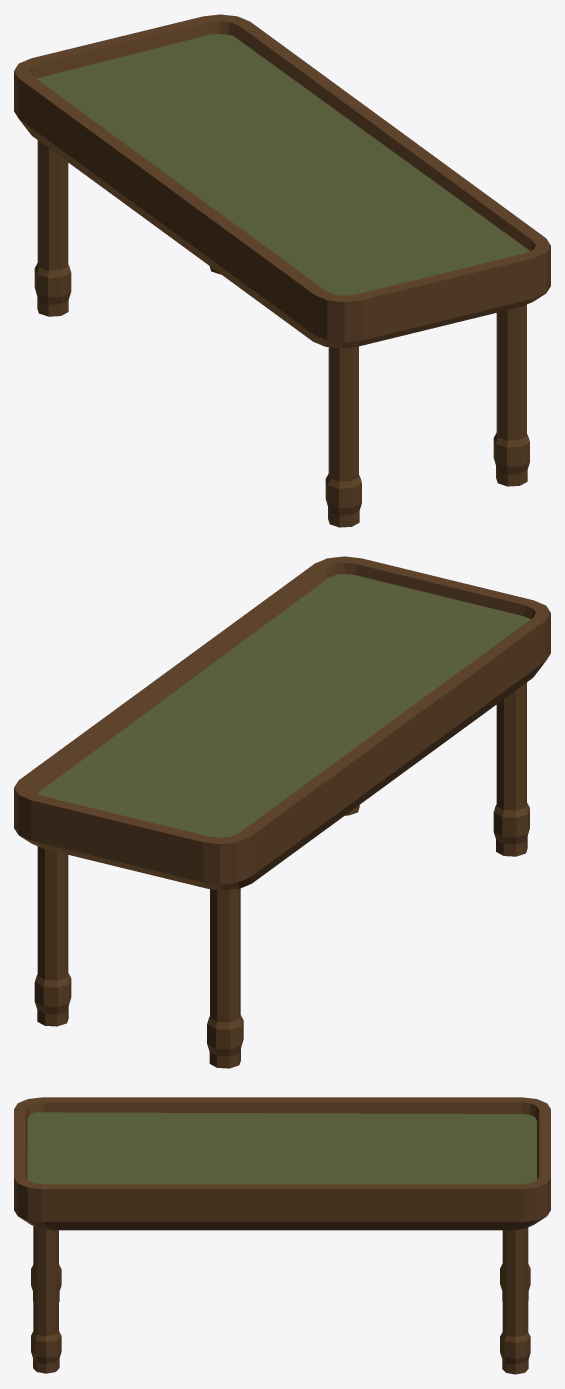
Rendered from Pokertable.fbx.
The picture shows the model from 3 angles, top to bottom: view 1: azimuth 30°, elevation 25°; view 2: azimuth 150°, elevation 25°; view 3: azimuth 270°, elevation 25°; orthographic projection. The views are drawn at different scales.
Parts seen in each view (by area): view 1: Cube, Cylinder; view 2: Cube, Cylinder; view 3: Cube, Cylinder.
Boxes of the visible parts, x1,y1,x2,y2 form: Cube: [14, 14, 550, 348]; Cylinder: [34, 140, 529, 527]; Cube: [14, 556, 550, 890]; Cylinder: [34, 682, 529, 1068]; Cube: [14, 1097, 550, 1230]; Cylinder: [31, 1226, 530, 1374].
Bounding box in the file's own units: 2 × 1.94 × 4.94.
